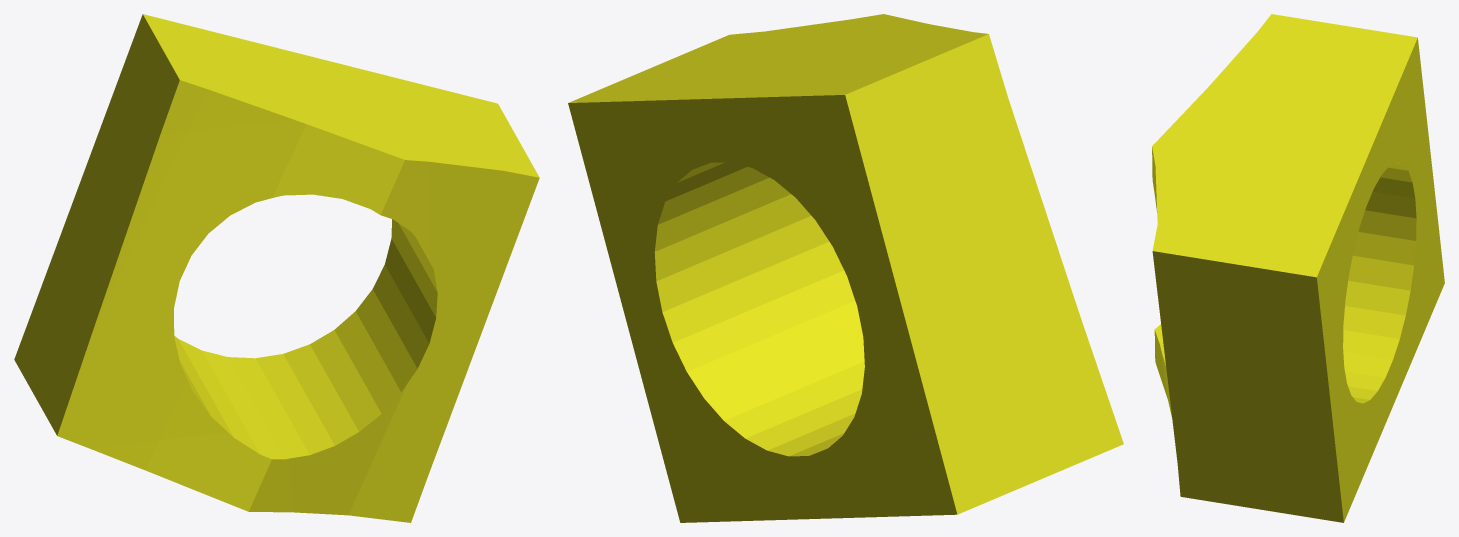
The model's file is cubeHple.fbx.
3 views of the same model, side by side, from view 1: azimuth 30°, elevation 25°; view 2: azimuth 150°, elevation 25°; view 3: azimuth 270°, elevation 25° (orthographic). The views are drawn at different scales.
Parts seen in each view (by area): view 1: square with hole.001; view 2: square with hole.001; view 3: square with hole.001.
Part boxes in pixels (x1,y1,x2,y2): square with hole.001: (14,14,539,522); square with hole.001: (568,14,1123,522); square with hole.001: (1152,14,1444,522).
Bounding box in the file's own units: 144 × 135 × 87.57.
